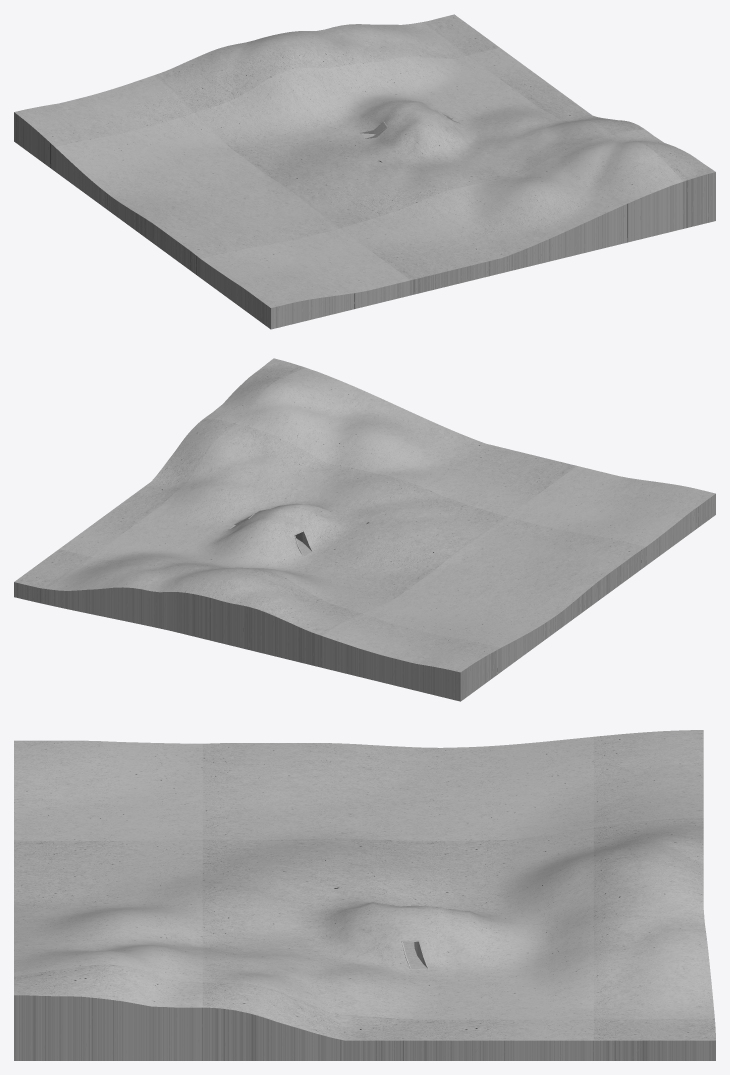
Rendered from terrain_tonnel_textured.glb.
3 views of the same model, one above another, from view 1: azimuth 30°, elevation 25°; view 2: azimuth 150°, elevation 25°; view 3: azimuth 270°, elevation 25° (orthographic). The views are drawn at different scales.
Visible parts, largest first — view 1: terrain001; view 2: terrain001; view 3: terrain001.
Part boxes in pixels (x1,y1,x2,y2): terrain001: [14, 14, 715, 329]; terrain001: [14, 358, 715, 701]; terrain001: [14, 730, 715, 1060].
Bounding box in the file's own units: 200 × 24.43 × 204.
Materials: 1 (1 with a texture image).
